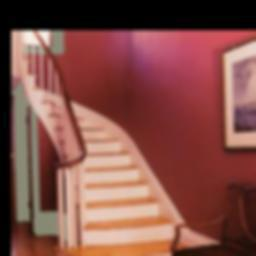Escaleras: (31, 79, 177, 256)
